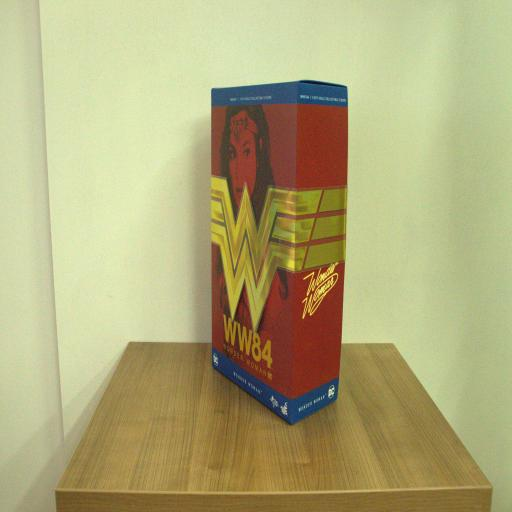WonderWoman: (210, 83, 348, 428)
